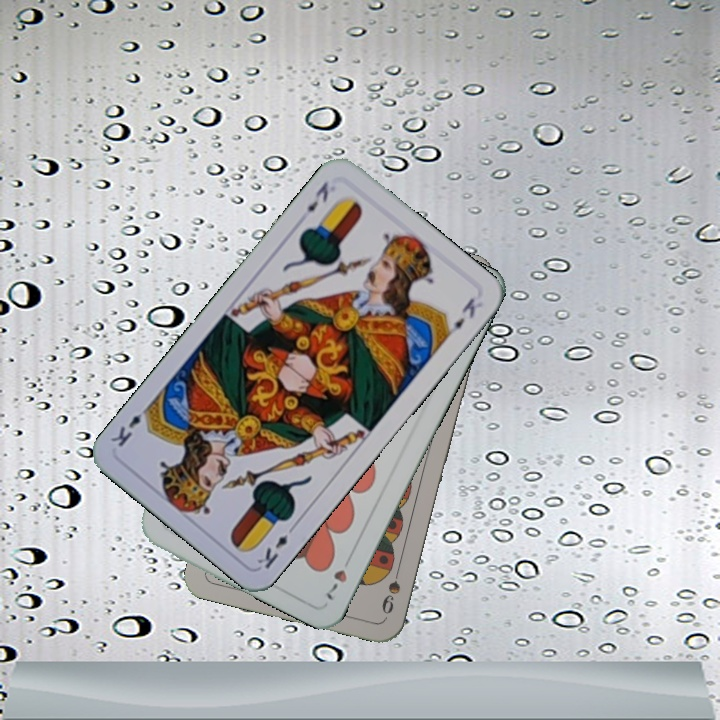EK: (253, 520, 299, 572), (302, 177, 331, 215)
H7: (322, 550, 356, 603)
S9: (378, 560, 404, 617)
